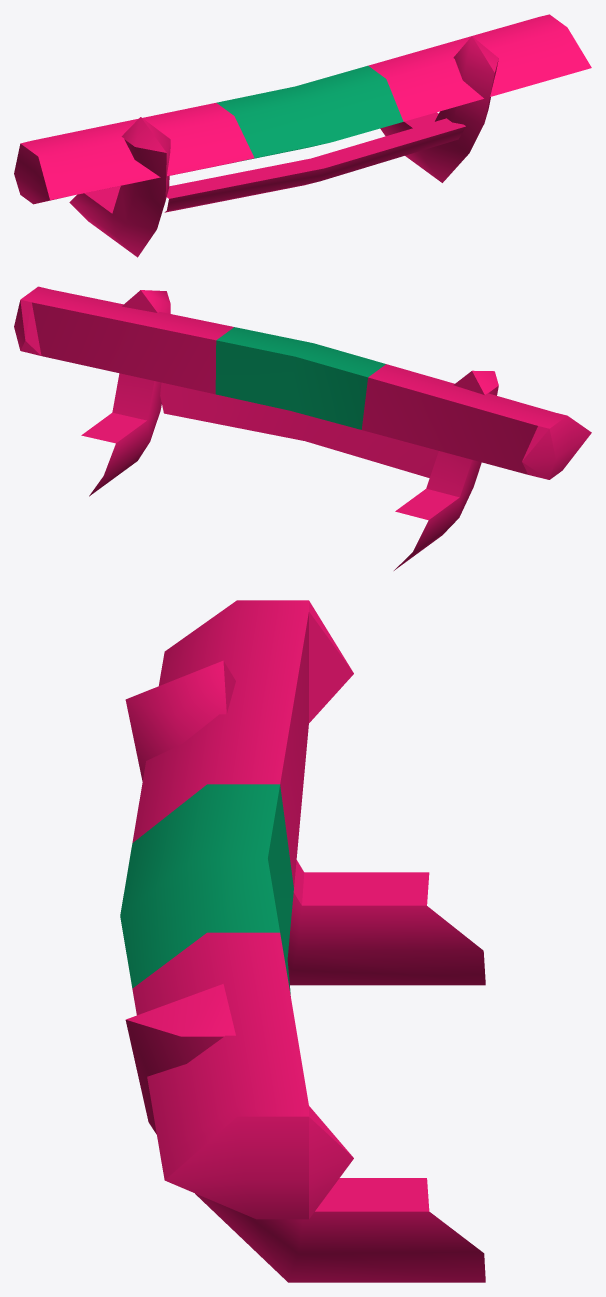
Rendered from MuscleBumper00C03.gltf.
The picture shows the model from 3 angles, top to bottom: view 1: azimuth 30°, elevation 25°; view 2: azimuth 150°, elevation 25°; view 3: azimuth 270°, elevation 25°; orthographic projection. The views are drawn at different scales.
Parts seen in each view (by area): view 1: MuscleBumper00C03; view 2: MuscleBumper00C03; view 3: MuscleBumper00C03.
Part boxes in pixels (x1,y1,x2,y2): MuscleBumper00C03: (14, 14, 591, 257); MuscleBumper00C03: (14, 286, 591, 570); MuscleBumper00C03: (120, 600, 485, 1282).
Bounding box in the file's own units: 0.1928 × 0.053 × 0.0563.
